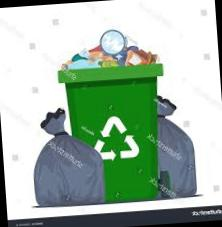trash: (28, 99, 100, 208), (147, 83, 204, 202), (54, 25, 162, 72)
trash_can_overflow: (13, 10, 213, 212)
